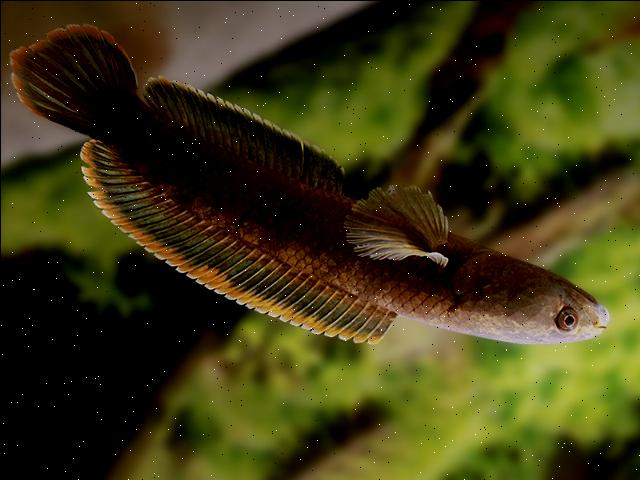Mulut: (543, 264, 617, 338)
Sirip Anal: (140, 74, 342, 191)
Sirip Dada: (342, 183, 454, 276)
Sirip Ekor: (0, 21, 142, 135)
Sirip Punggung: (76, 136, 400, 352)
